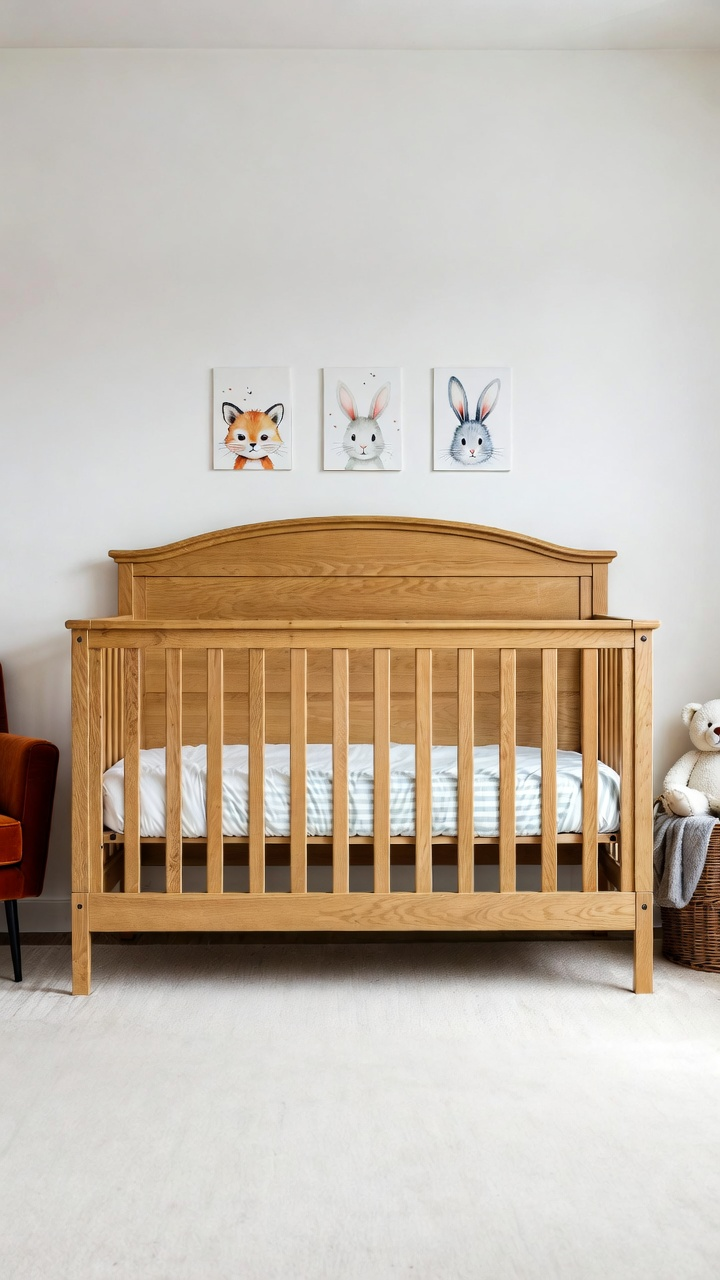crib: (68, 517, 655, 993)
